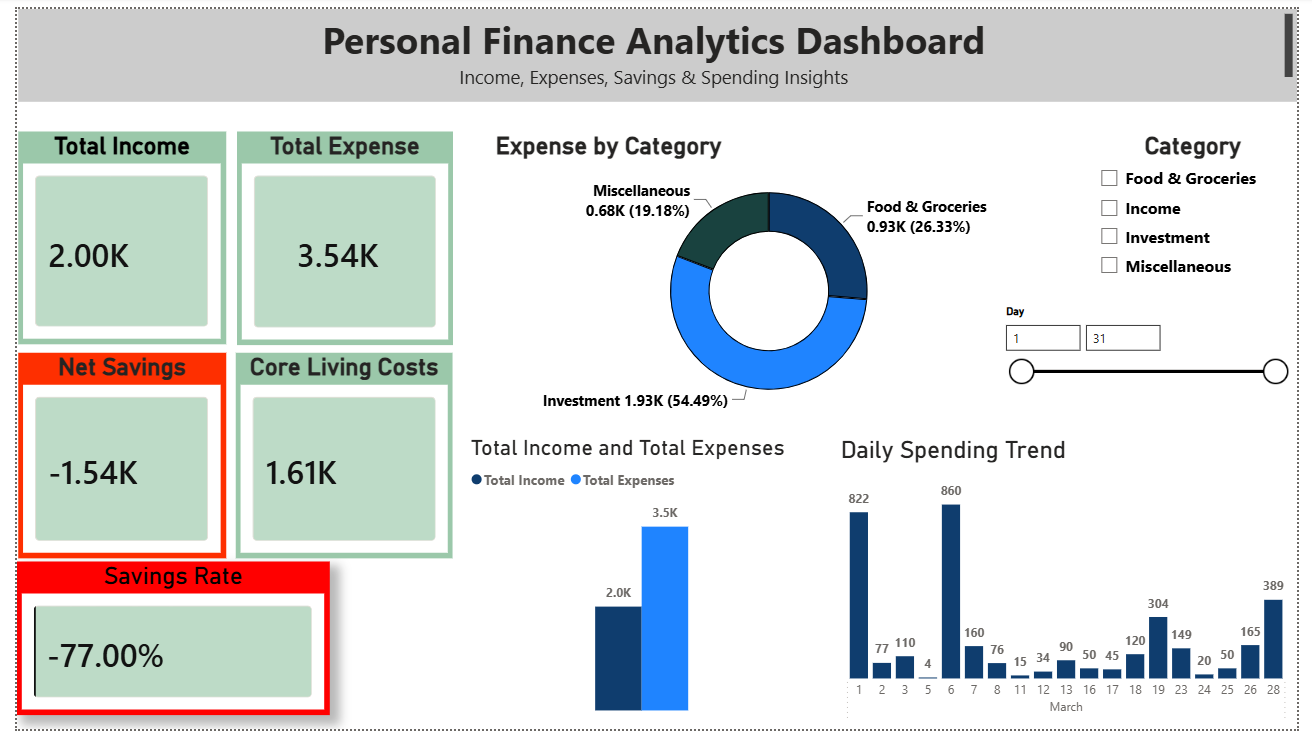

The page's visual inventory and layout, read from the dashboard file:
{"tool":"powerbi","page":{"name":"Page 1","canvas":[1280,720],"ordinal":0},"visuals":[{"type":"slicer","fields":{"Values":["Feb-Mar Spending Tracker.Category"]},"box":[1036,34.9,207,182.6],"z":0},{"type":"donutChart","title":"Expense by Category","fields":{"Series":["Feb-Mar Spending Tracker.Category"],"Category":["Feb-Mar Spending Tracker.Category"],"Y":["Feb-Mar Spending Tracker.Total Expenses"]},"box":[464,351.3,452.3,301.2],"z":0,"group":"g1"},{"type":"cardVisual","fields":{"Data":["Feb-Mar Spending Tracker.Total Income"]},"box":[0,0,235.2,276.5],"z":1000},{"type":"clusteredColumnChart","title":"Daily Spending Trend","fields":{"Y":["Feb-Mar Spending Tracker.Cumulative Expenses"],"Category":["Feb-Mar Spending Tracker.Date.Variation.Date Hierarchy.Month","Feb-Mar Spending Tracker.Date.Variation.Date Hierarchy.Day"]},"box":[916.3,351.3,364,301.2],"z":1000,"group":"g1"},{"type":"cardVisual","fields":{"Data":["Feb-Mar Spending Tracker.Total Expenses"]},"box":[235.2,0,244,276.5],"z":2000},{"type":"group","id":"g1","title":"Group 3","box":[0,351.2,1280.2,301.3],"z":2001,"group":"g2"},{"type":"group","id":"g2","title":"Group 2","box":[0,351.2,1280.2,301.2],"z":3000},{"type":"cardVisual","fields":{"Data":["Feb-Mar Spending Tracker.Savings Rate"]},"box":[0,351.2,463.9,301.2],"z":3000,"group":"g1"},{"type":"cardVisual","fields":{"Data":["Feb-Mar Spending Tracker.Living Expenses"]},"box":[478.5,0.4,244.5,276.4],"z":4000},{"type":"cardVisual","fields":{"Data":["Feb-Mar Spending Tracker.Net Savings"]},"box":[723,0.4,223.5,276.4],"z":5000}]}

Visuals, with their boxes in screenshot pixels (x1, y1, x2, y2), scaled from the page's 1280x720 canvas onto the 1312x741 screenshot:
slicer - Feb-Mar Spending Tracker.Category: 1062 36 1274 224
"Expense by Category" donutChart: 476 362 939 672
cardVisual - Feb-Mar Spending Tracker.Total Income: 0 0 241 285
"Daily Spending Trend" clusteredColumnChart: 939 362 1311 672
cardVisual - Feb-Mar Spending Tracker.Total Expenses: 241 0 491 285
"Group 3" group: 0 361 1311 672
"Group 2" group: 0 361 1311 671
cardVisual - Feb-Mar Spending Tracker.Savings Rate: 0 361 475 671
cardVisual - Feb-Mar Spending Tracker.Living Expenses: 490 0 741 285
cardVisual - Feb-Mar Spending Tracker.Net Savings: 741 0 970 285
